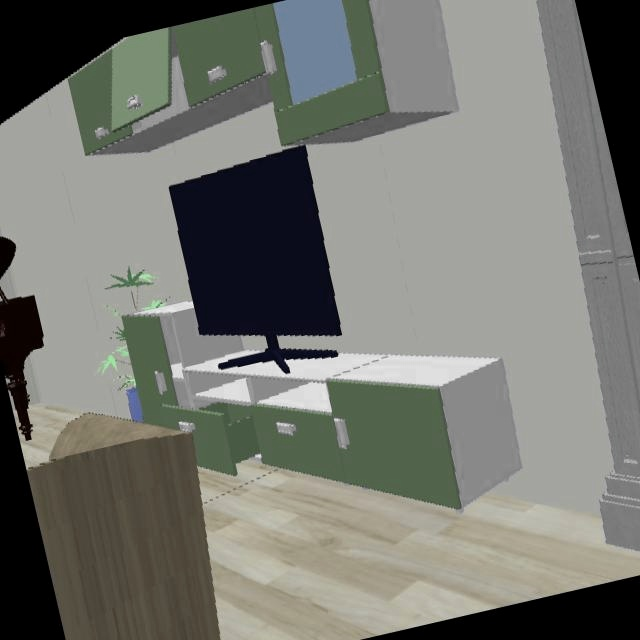cabinet: (121, 301, 523, 512), (68, 0, 458, 157), (535, 0, 640, 553)
monitor: (169, 145, 341, 355)
sofa: (26, 416, 221, 640)
